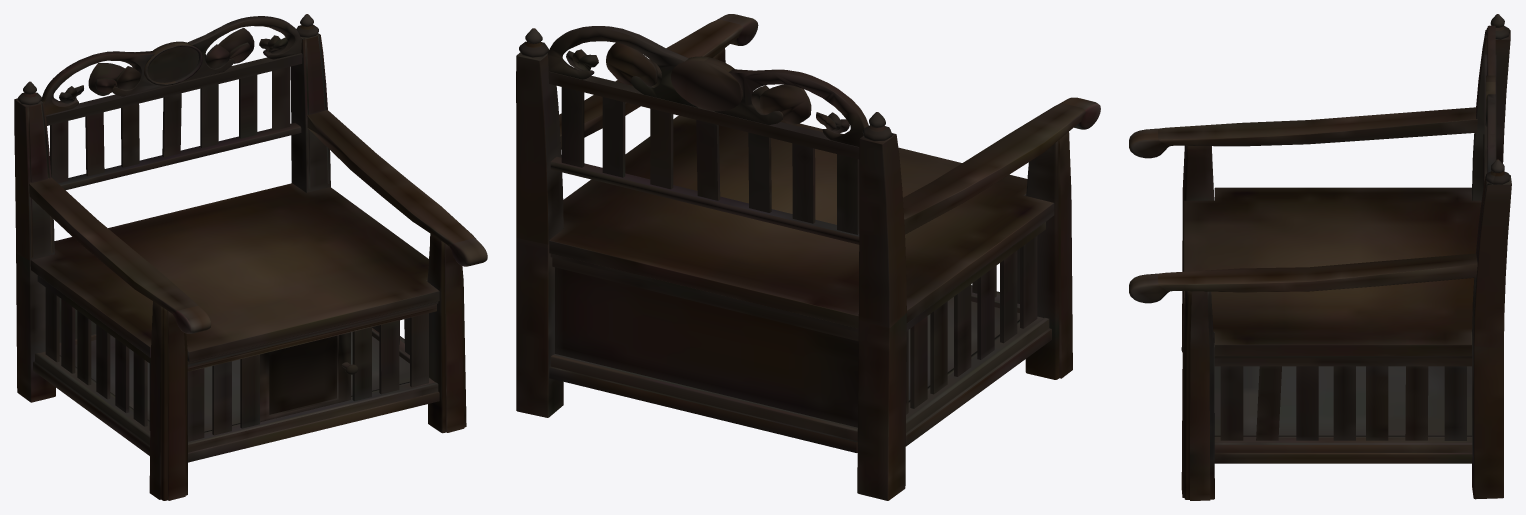
Rendered from ph-gallinera-chair.glb.
3 renders of one model, left to right at view 1: azimuth 30°, elevation 25°; view 2: azimuth 150°, elevation 25°; view 3: azimuth 270°, elevation 25°, orthographic. The views are drawn at different scales.
Visible parts, largest first — view 1: gallinera_chair; view 2: gallinera_chair; view 3: gallinera_chair.
Boxes of the visible parts, box(x1,y1,x2,y2) form: gallinera_chair: box(14, 14, 487, 500); gallinera_chair: box(516, 14, 1100, 500); gallinera_chair: box(1129, 14, 1511, 500).
Size of the model in its own units: 1 by 0.9999 by 1.
1 material, 1 textured.
